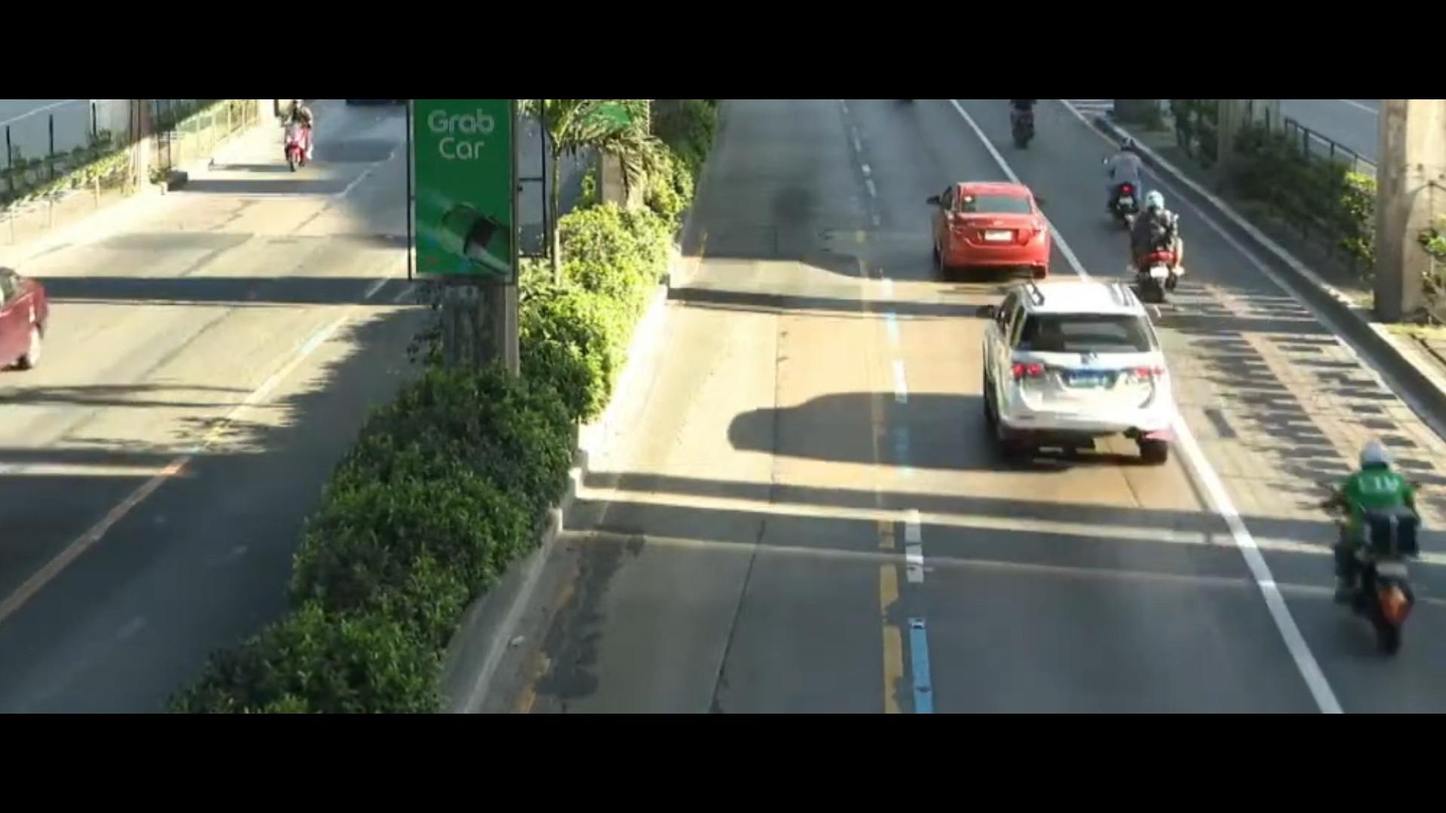Motorcycle: (1321, 439, 1446, 651), (1095, 134, 1170, 238), (1125, 194, 1196, 300), (271, 100, 339, 190), (1006, 101, 1048, 155)
SUV: (961, 268, 1191, 479)
Sedan: (920, 163, 1056, 276)
